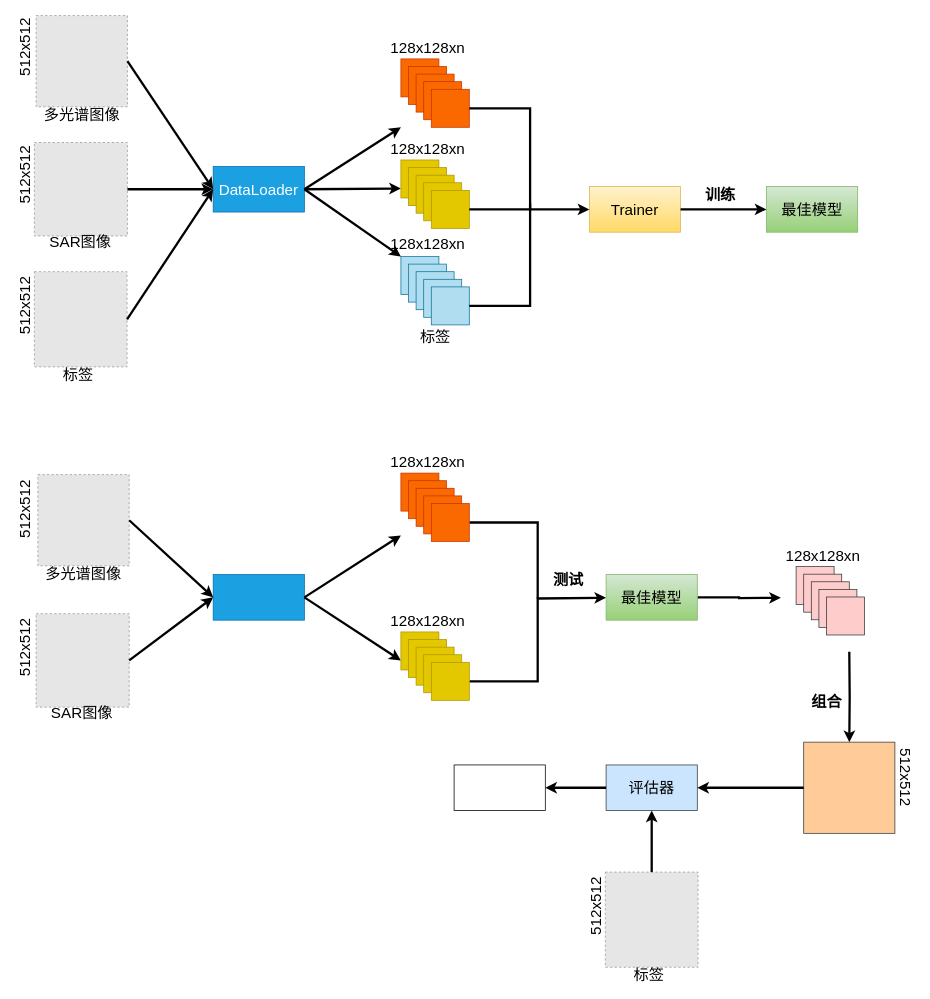
This 930x999 diagram has some shape labels left out. Grey dashed boxes stand in for pictures. Here are the shapes that lost their labels. From the top down, the centre of each, then its label:
the point at 258,597: 预处理
the point at 499,787: 评估结果
